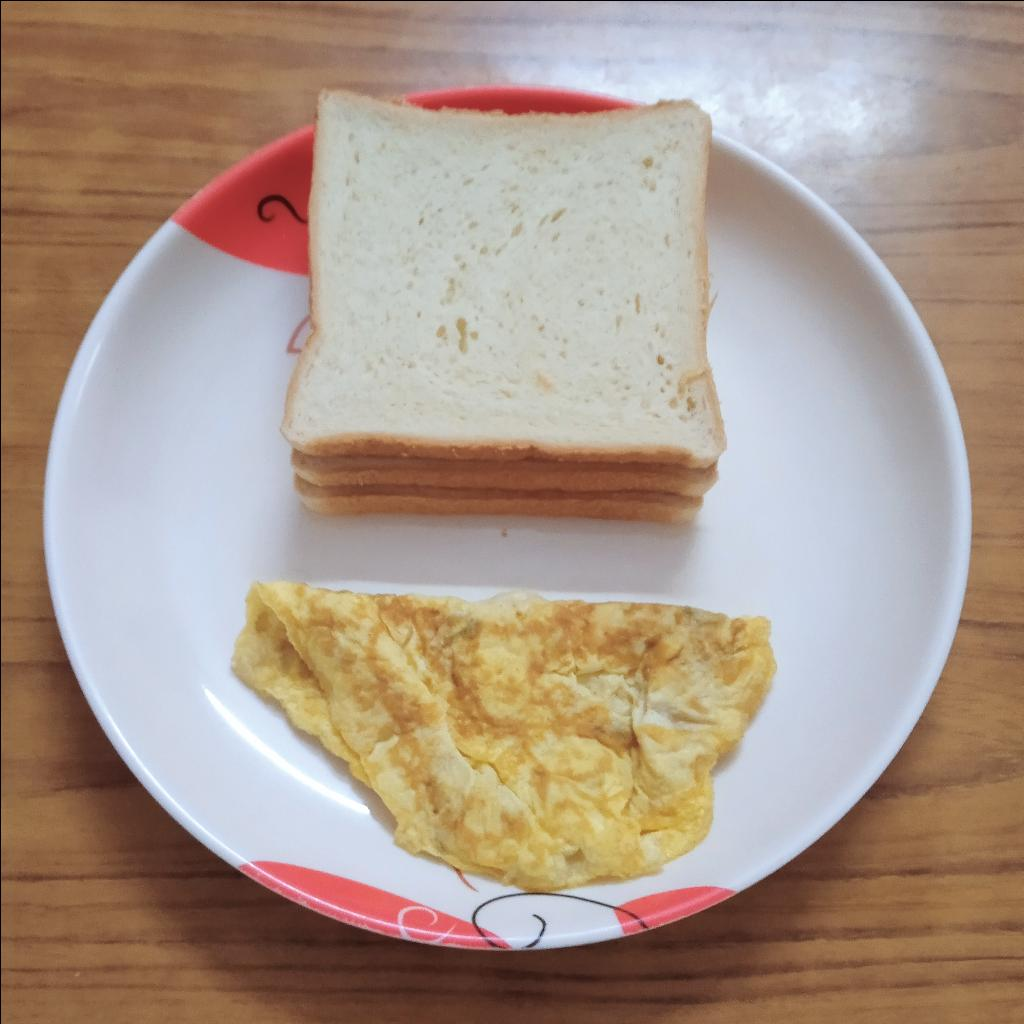bread: (280, 87, 722, 517)
egg-poached: (234, 585, 782, 890)
